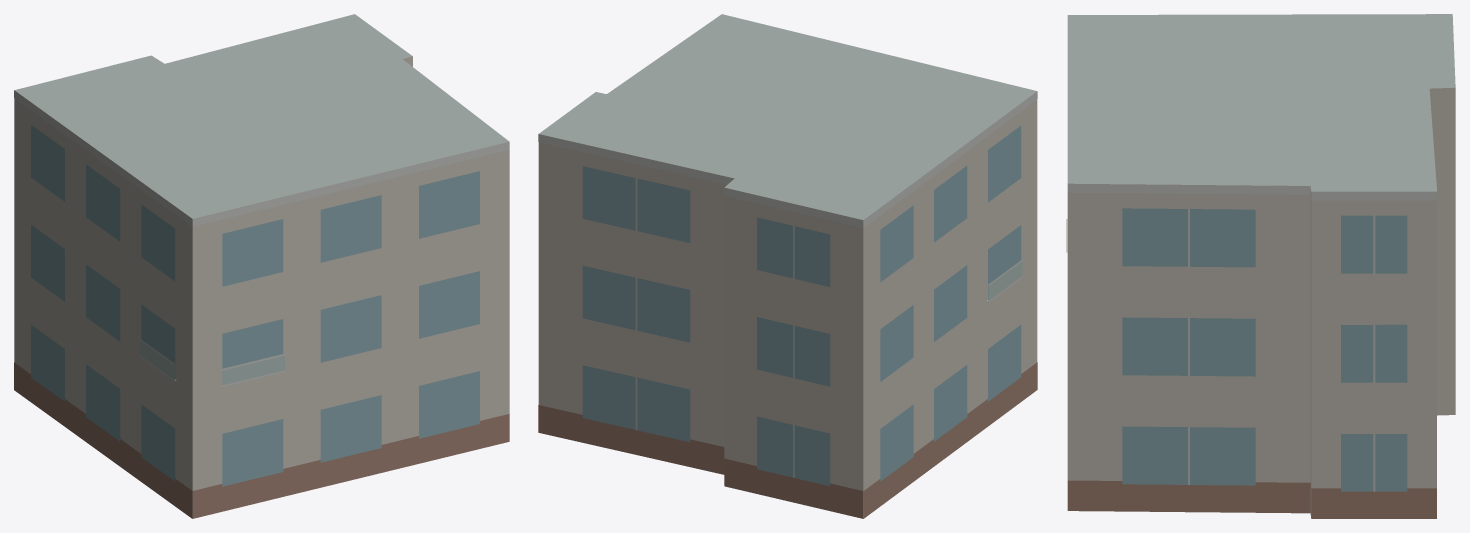
File: survey-upis-32719490.glb
3 views of the same model, side by side, from view 1: azimuth 30°, elevation 25°; view 2: azimuth 150°, elevation 25°; view 3: azimuth 270°, elevation 25° (orthographic). The views are drawn at different scales.
Parts seen in each view (by area): view 1: survey-upis-32719490.tmp; view 2: survey-upis-32719490.tmp; view 3: survey-upis-32719490.tmp.
Part boxes in pixels (bbox=[...]): survey-upis-32719490.tmp: bbox=[14, 14, 509, 518]; survey-upis-32719490.tmp: bbox=[538, 14, 1037, 518]; survey-upis-32719490.tmp: bbox=[1066, 14, 1455, 518].
Size of the model in its own units: 10.66 by 9.15 by 9.88.
